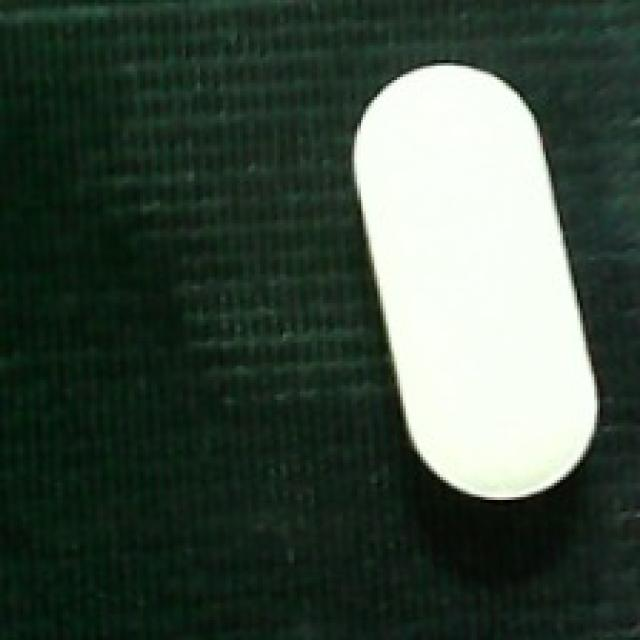no-defect: (348, 59, 602, 502)
